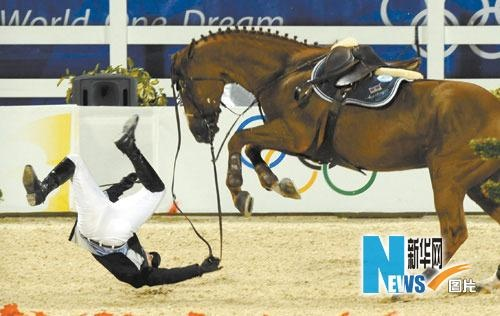falling: (5, 110, 232, 293)
